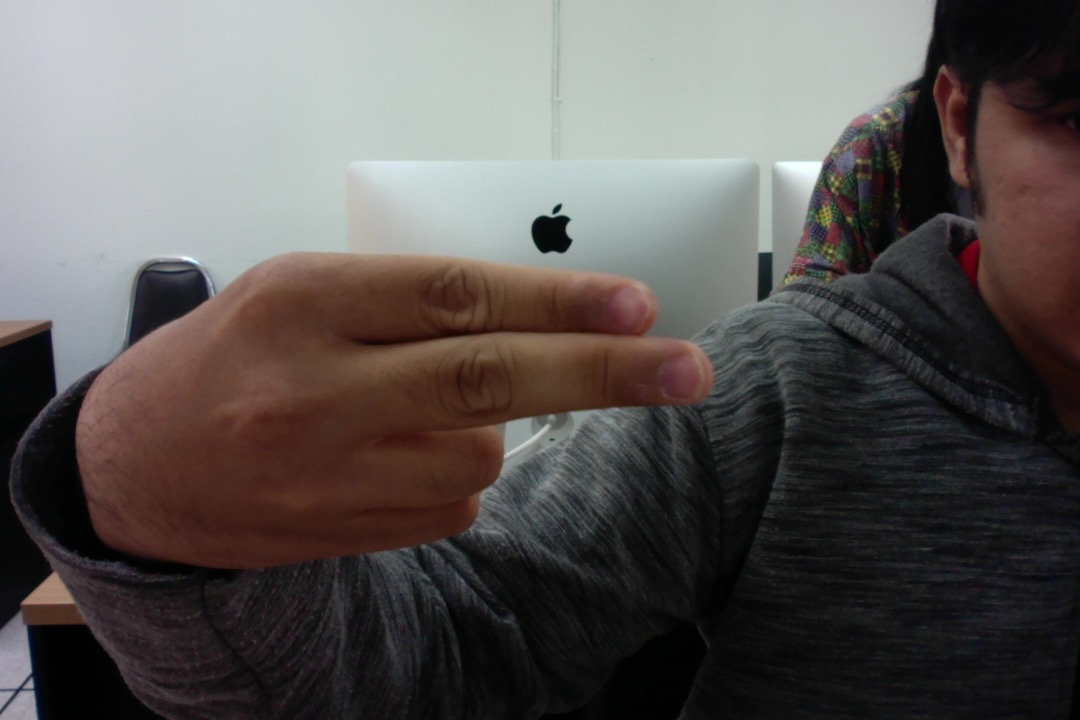hor: (44, 234, 725, 581)
